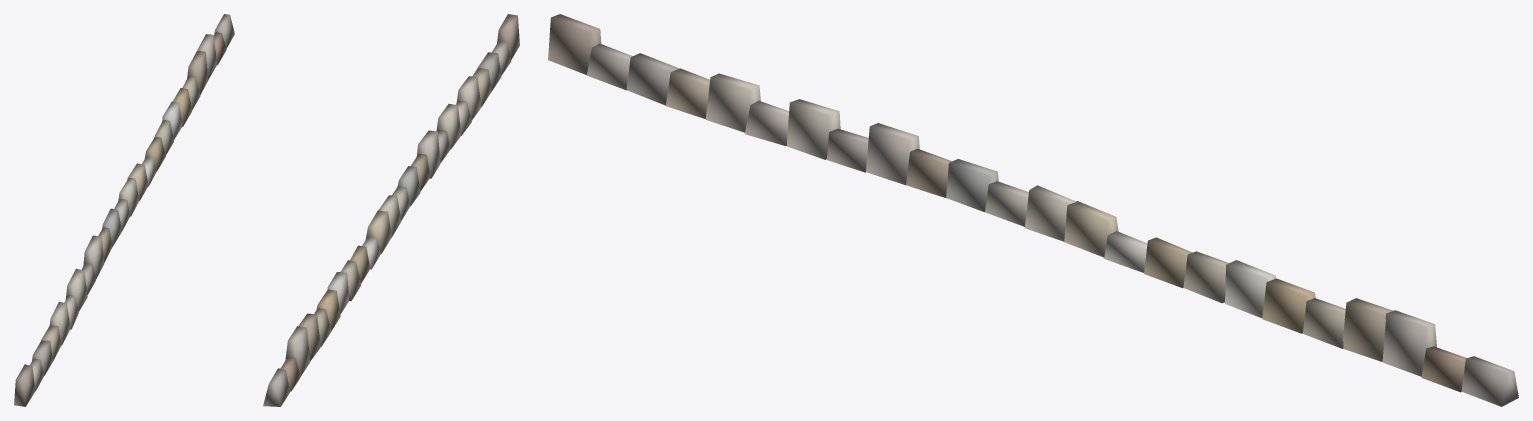
The model's file is farm_-2_12_far.glb.
3 renders of one model, left to right at view 1: azimuth 30°, elevation 25°; view 2: azimuth 210°, elevation 25°; view 3: azimuth 270°, elevation 25°, orthographic. The views are drawn at different scales.
Parts seen in each view (by area): view 1: geometry_0; view 2: geometry_0; view 3: geometry_0.
Boxes of the visible parts, left/top/right/bottom form: geometry_0: left=14, top=14, right=234, bottom=406; geometry_0: left=263, top=14, right=519, bottom=406; geometry_0: left=548, top=14, right=1518, bottom=406.
Bounding box in the file's own units: 27.28 × 2.97 × 27.87.
